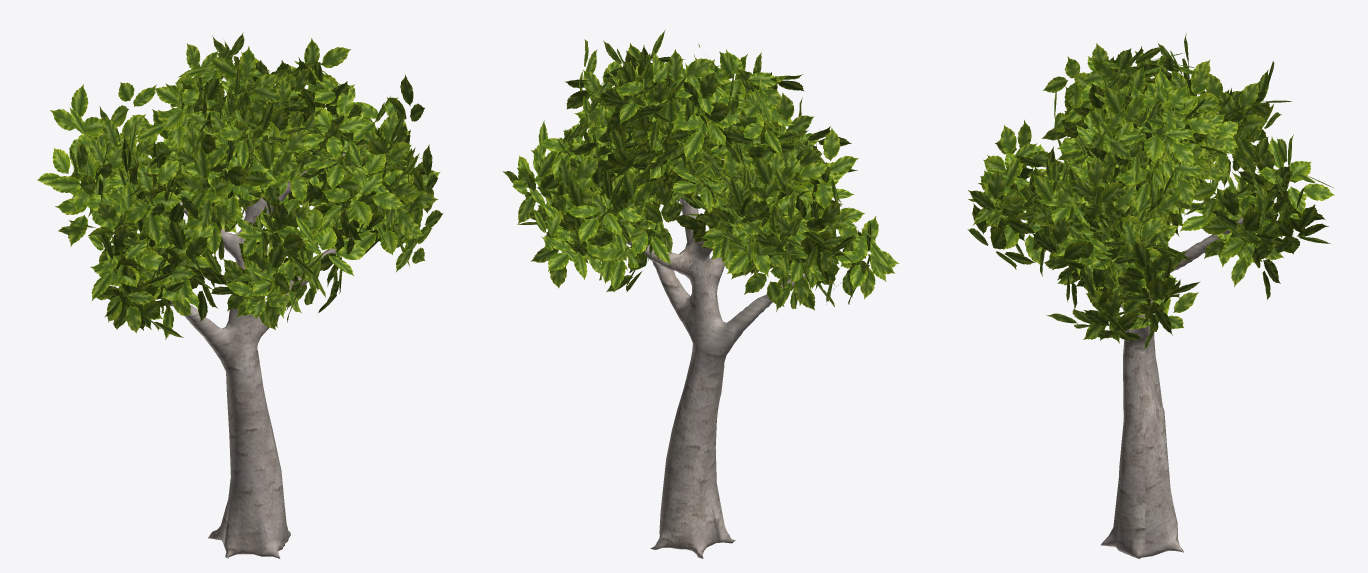
The model's file is cincis-beech-rooted-study.glb.
The picture shows the model from 3 angles, left to right: view 1: azimuth 30°, elevation 25°; view 2: azimuth 150°, elevation 25°; view 3: azimuth 270°, elevation 25°; orthographic projection.
Visible parts, largest first — view 1: Foliage, Trunk and branches; view 2: Foliage, Trunk and branches; view 3: Foliage, Trunk and branches.
Part boxes in pixels (x1,y1,x2,y2): Foliage: (37,32,443,339); Trunk and branches: (170,144,366,558); Foliage: (502,30,899,311); Trunk and branches: (596,198,805,558); Foliage: (967,33,1334,349); Trunk and branches: (1028,183,1243,558).
Size of the model in its own units: 6.99 by 8.82 by 6.28.
Materials: 2 (2 with a texture image).
